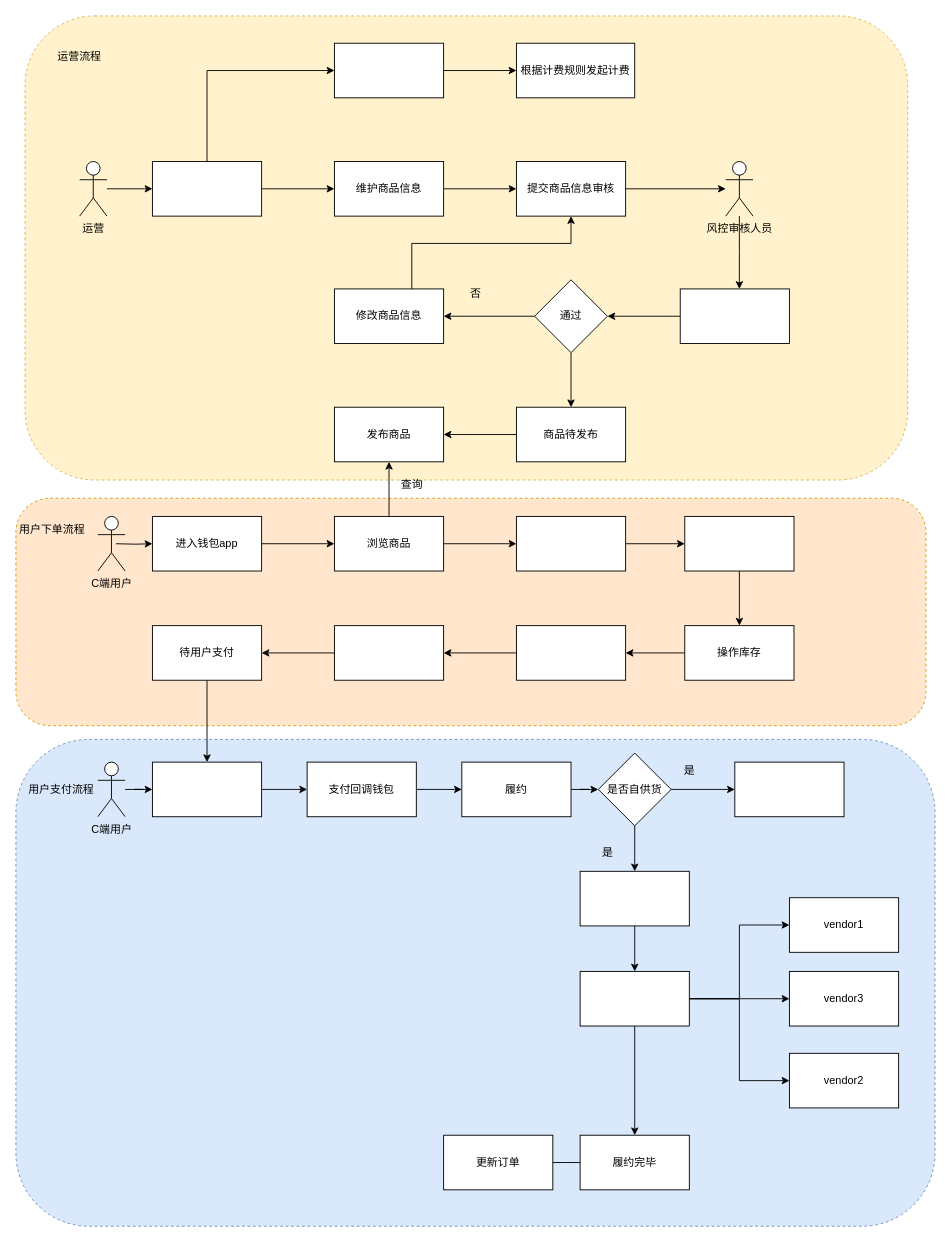
Image size: 951x1242. Some labels were removed from this diagram. The centre of each missing label's shape, as x and y in pixels:
"下单" belongs at (x=571, y=543).
"与vendor通信" belongs at (x=634, y=898).
"供应商路由" belongs at (x=739, y=543).
"冻结货品" belongs at (x=571, y=652).
"商品营销：券、返现" belongs at (x=389, y=652).
"审核结果" belongs at (x=734, y=316).
"履约配置化接入" belongs at (x=634, y=998).
"核销货品" belongs at (x=789, y=789).
"用户支付" belongs at (x=207, y=789).
"登录mars系统" belongs at (x=207, y=188).
"维护计费规则" belongs at (x=389, y=70).
